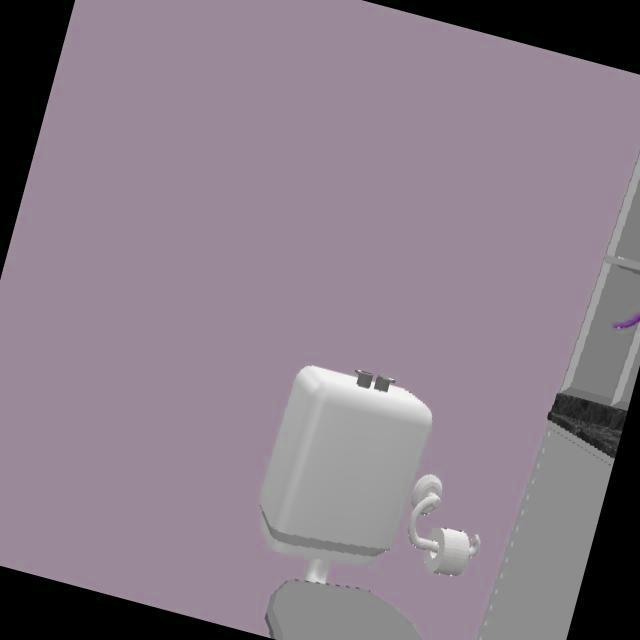toilet: (256, 366, 433, 640)
